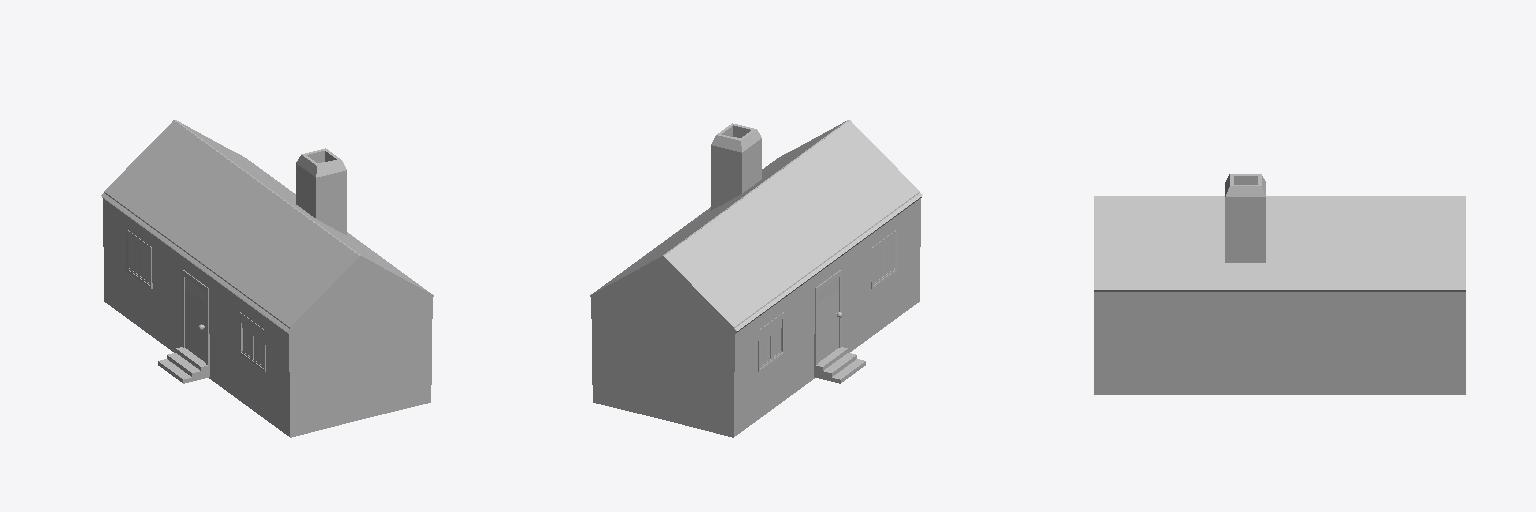
Rendered from House2.obj.
3 views of the same model, side by side, from view 1: azimuth 30°, elevation 25°; view 2: azimuth 150°, elevation 25°; view 3: azimuth 270°, elevation 25° (orthographic).
Visible parts, largest first — view 1: Collision, Cube.001; view 2: Collision, Cube.001; view 3: Collision, Cube.001.
Boxes of the visible parts, <box> form: Collision: <box>103,120,432,437</box>; Cube.001: <box>101,120,433,383</box>; Collision: <box>591,120,920,437</box>; Cube.001: <box>590,120,922,383</box>; Collision: <box>1094,196,1465,394</box>; Cube.001: <box>1094,174,1465,291</box>.
Size of the model in its own units: 5.74 by 6.39 by 10.84.